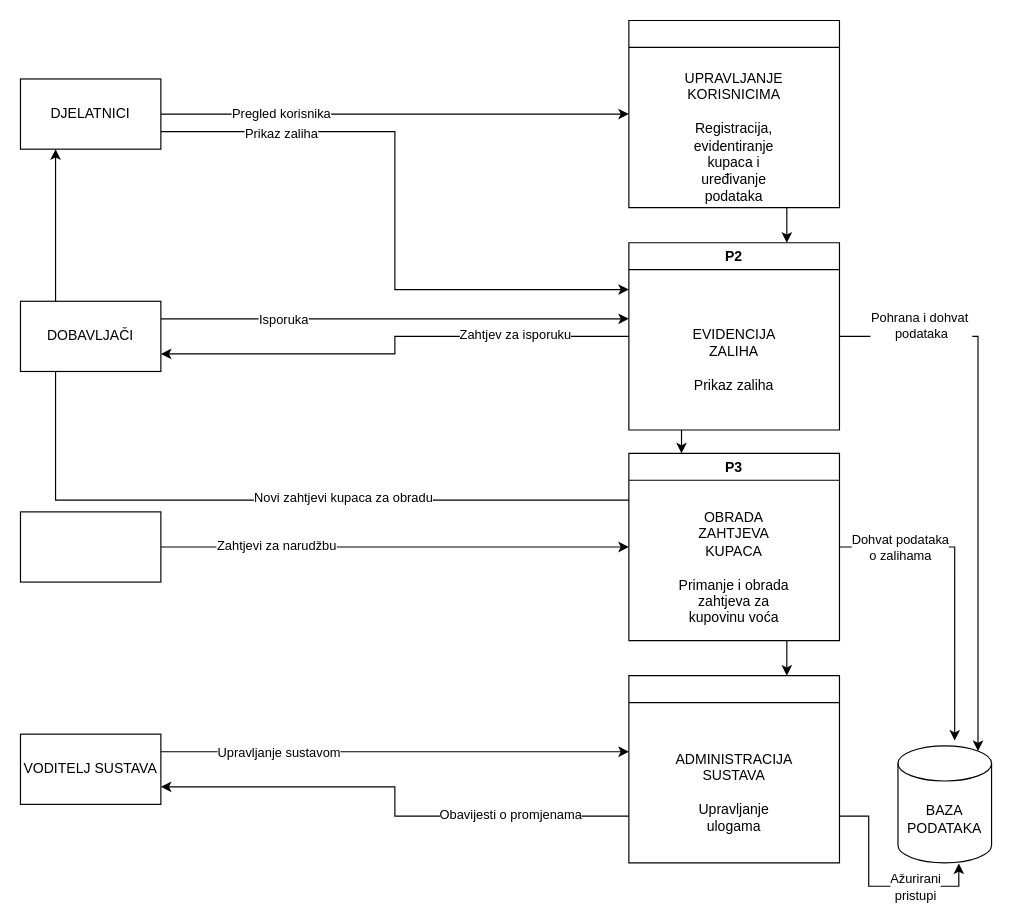
This 1012x922 diagram has some shape labels left out. The box of each missing label's shape, as (x1, y1, x2, y2) in pixels:
KUPCI: (19, 511, 161, 582)
P1: (628, 19, 839, 208)
P4: (628, 675, 839, 863)
